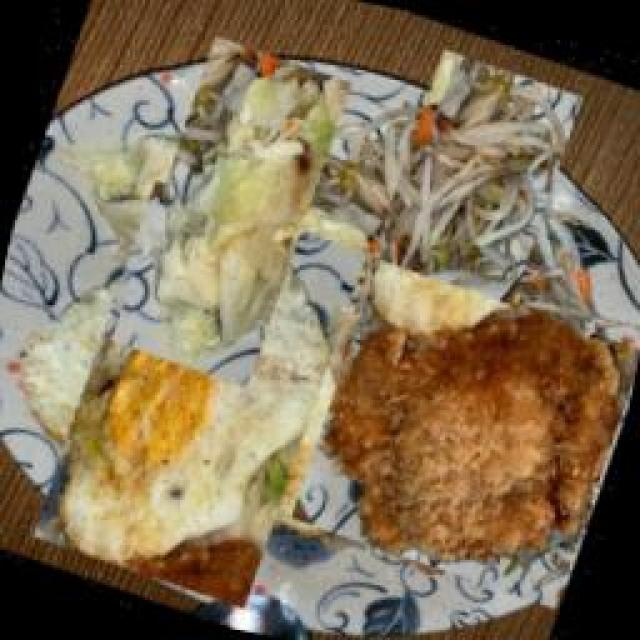Wet Waste: (0, 197, 398, 595), (285, 252, 640, 618), (78, 58, 388, 368), (328, 65, 610, 347)
